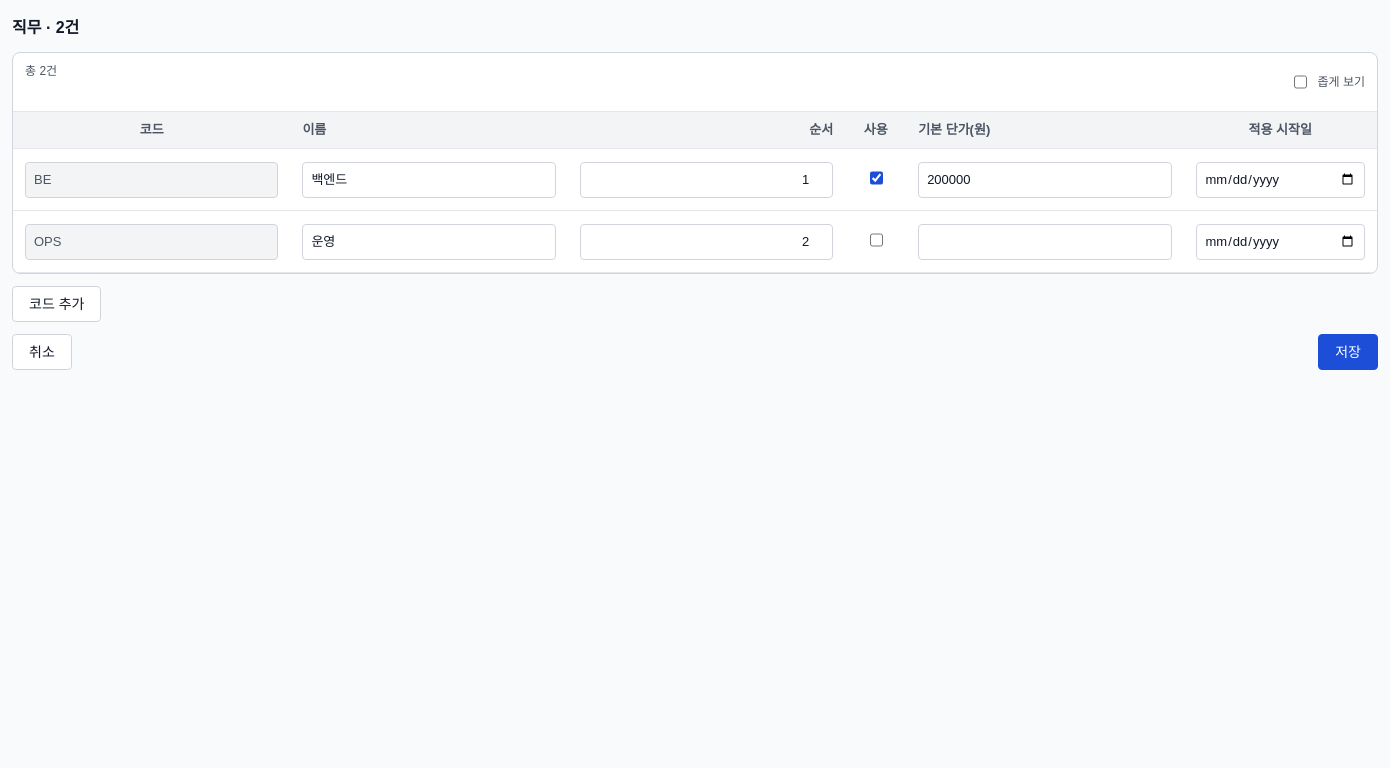
Test: UI-27 code contract › does not replay uncertain PUT and recovers only by GET
The width and height of the screenshot is (1390, 768).
Replace the text in the field named "이름 1" with "미확인" at (429, 180), box [302,162,556,198]
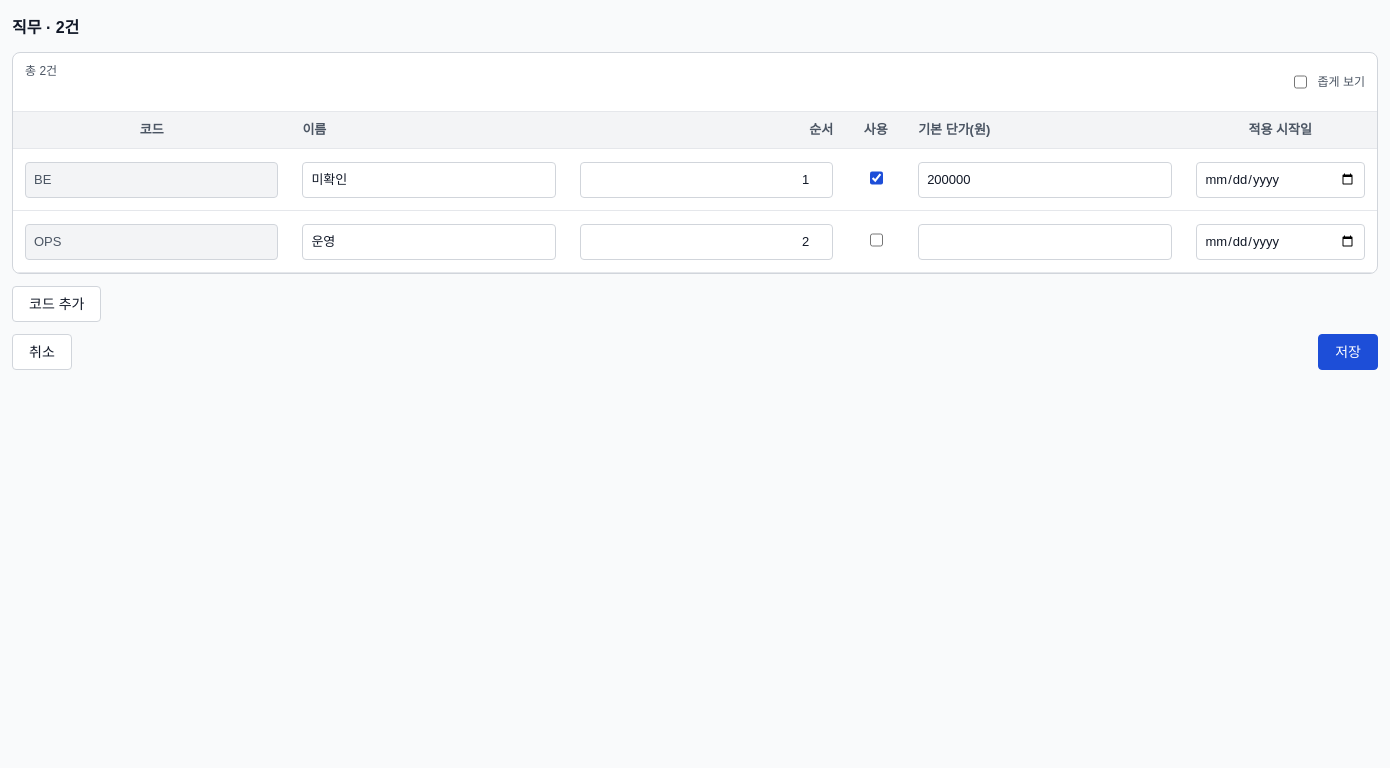
Click the button "저장".
click(1348, 352)  # box [1318,334,1378,370]
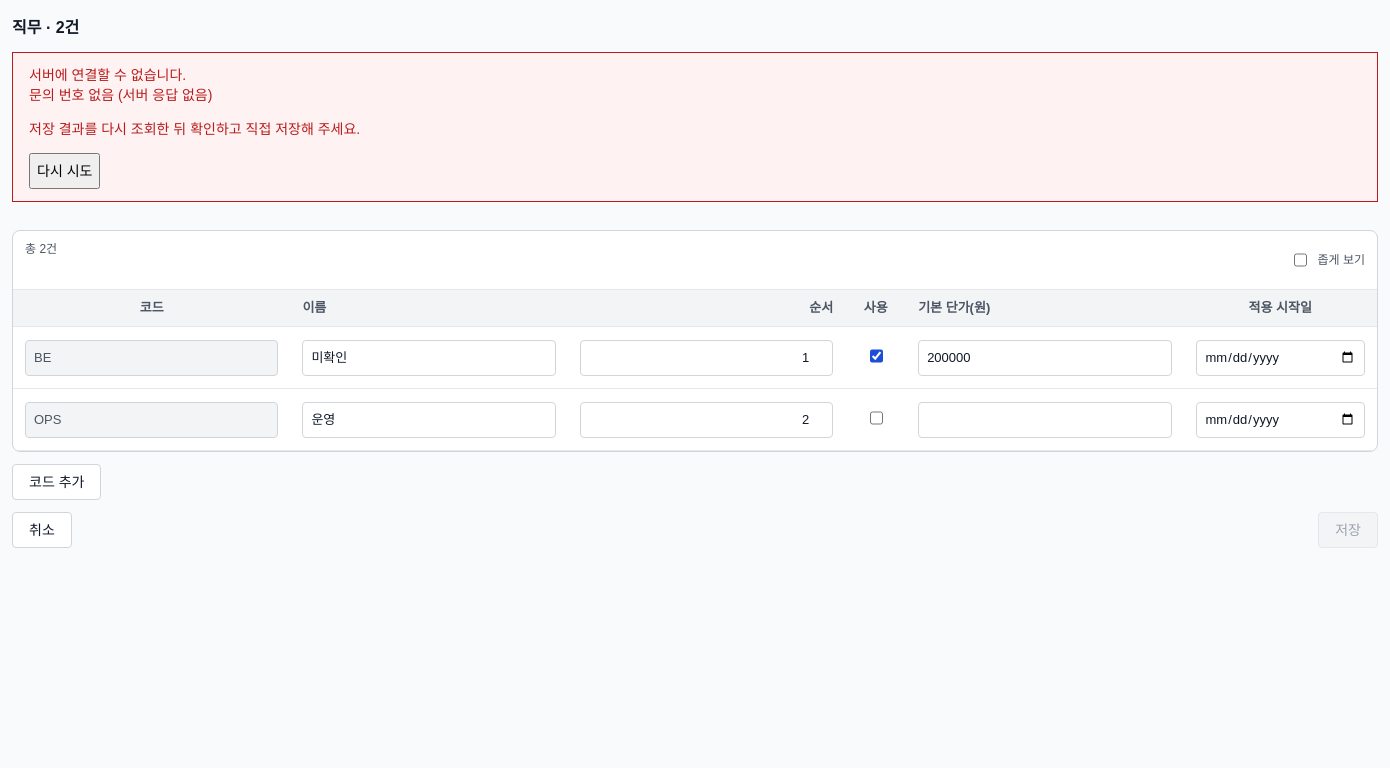
Result: the text "문의 번호 없음 (서버 응답 없음)" is shown at [29,87,212,103]
Result: the button "저장" is disabled at [1318,512,1378,548]
Click the button "다시 시도".
click(65, 171)  # box [29,153,100,189]
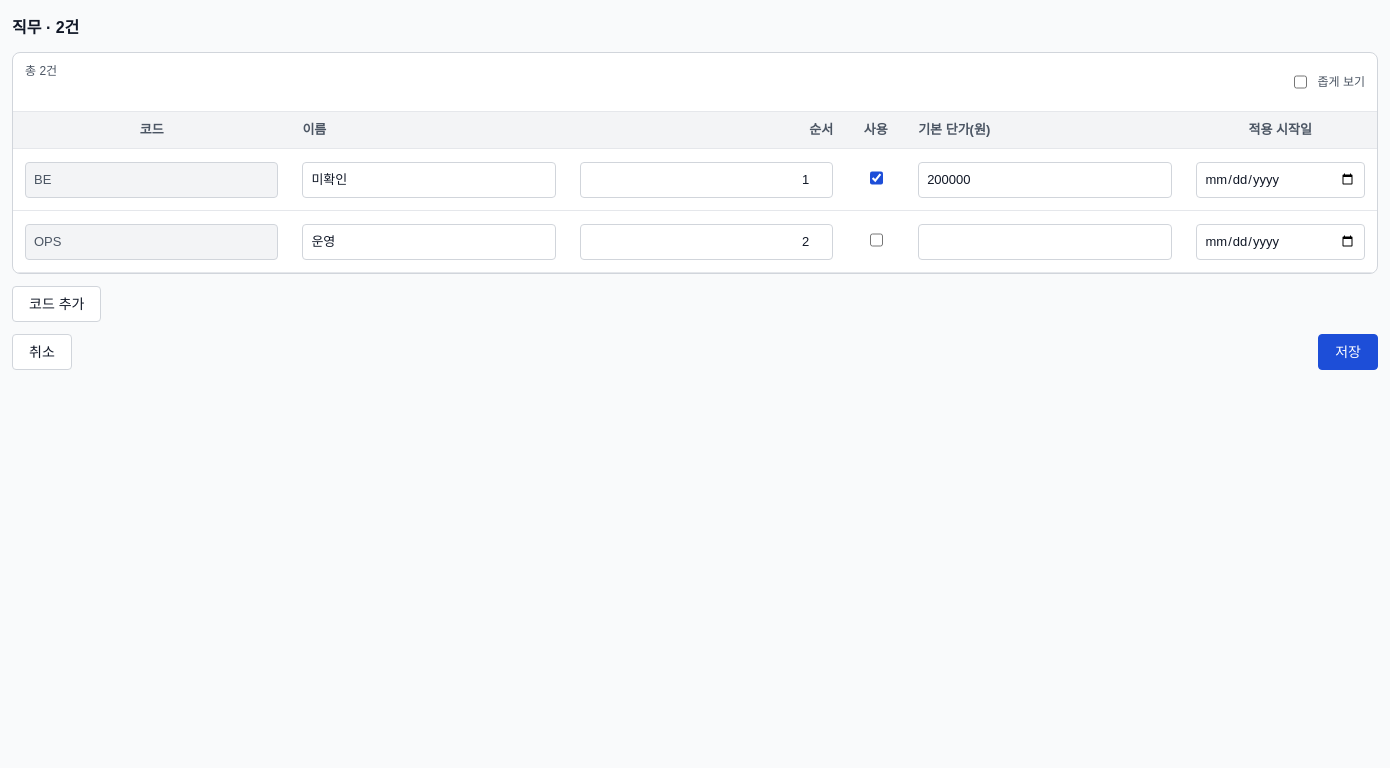
Result: the button "저장" is enabled at [1318,334,1378,370]
